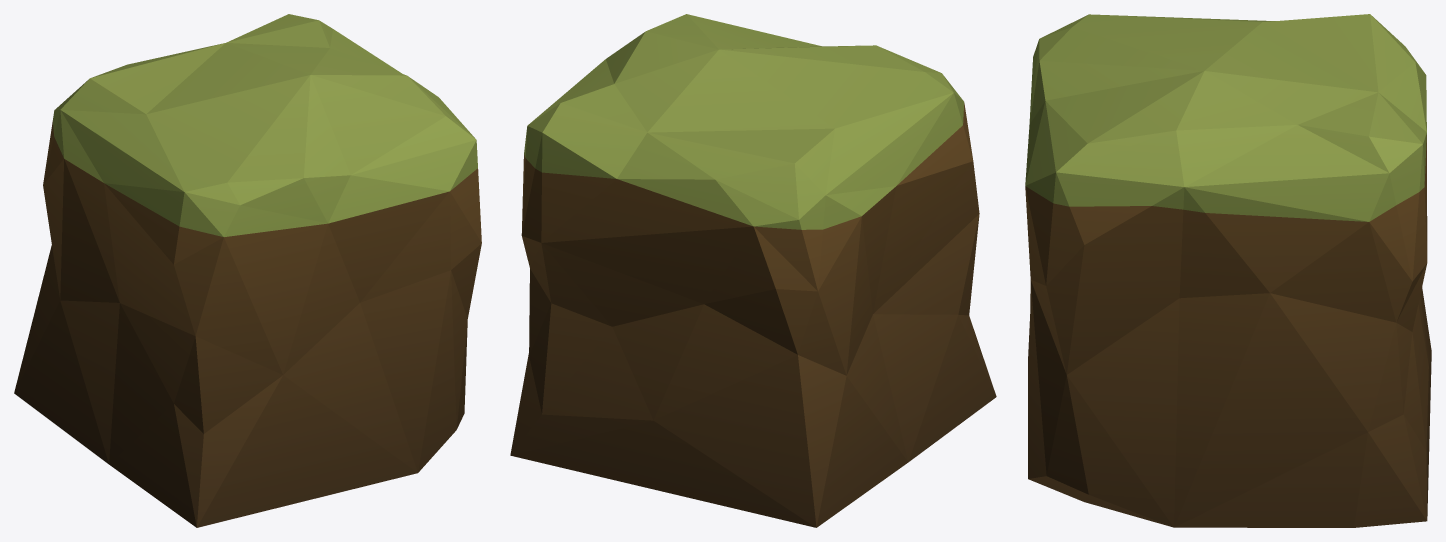
File: Ground_02.fbx
3 renders of one model, left to right at view 1: azimuth 30°, elevation 25°; view 2: azimuth 150°, elevation 25°; view 3: azimuth 270°, elevation 25°, orthographic. The views are drawn at different scales.
Parts seen in each view (by area): view 1: Ground_02; view 2: Ground_02; view 3: Ground_02.
Part boxes in pixels (x1,y1,x2,y2): Ground_02: [14, 14, 481, 527]; Ground_02: [510, 14, 996, 527]; Ground_02: [1025, 14, 1431, 527].
Size of the model in its own units: 4.75 by 5.02 by 4.71.
